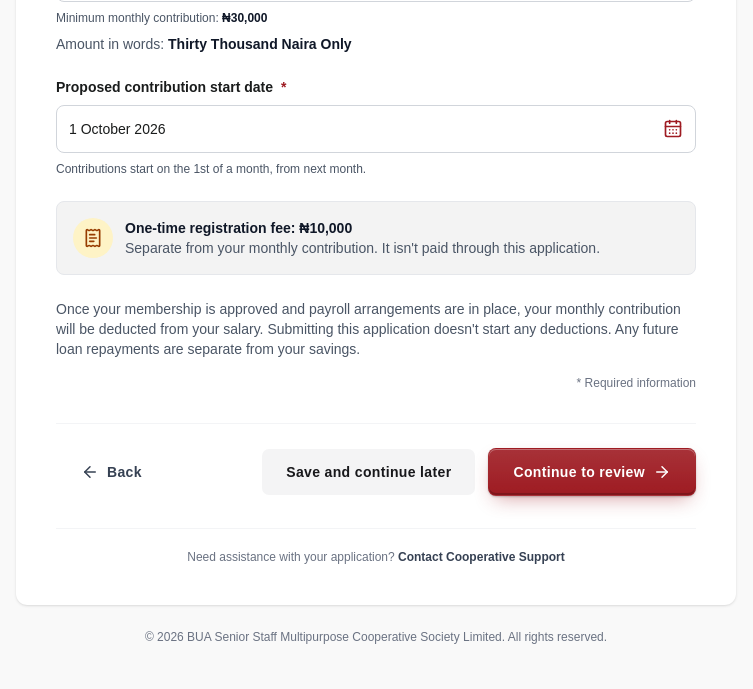
Scenario: Contributions: the start date › flags a saved start that is no longer next month or later, only on Continue
(page scrolled)
Click the button "Continue to review" at x=592, y=472, box x1=488 y1=448 x2=696 y2=496
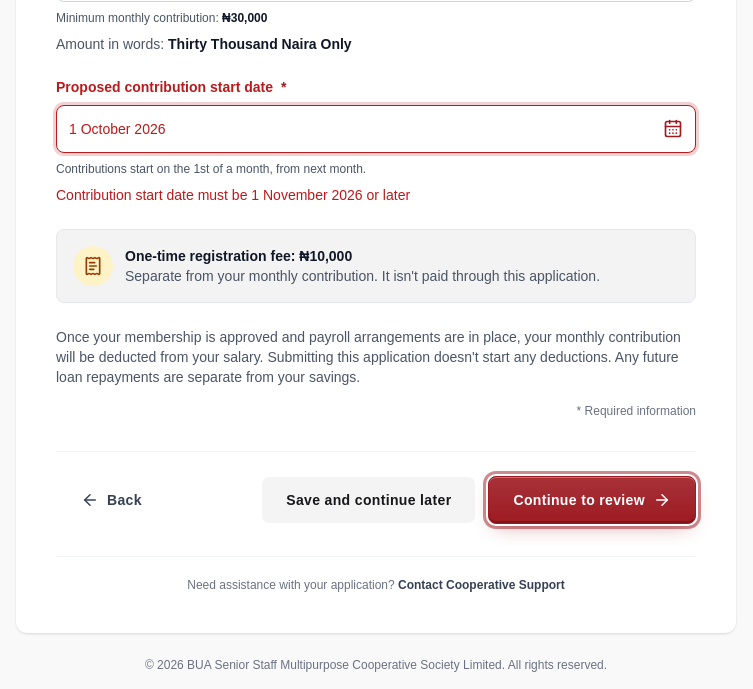
Now the text "Contribution start date must be 1 November 2026 or later" is shown, box x1=56 y1=187 x2=410 y2=203
Click the button "Save and continue later" at x=369, y=500, box x1=261 y1=476 x2=476 y2=524
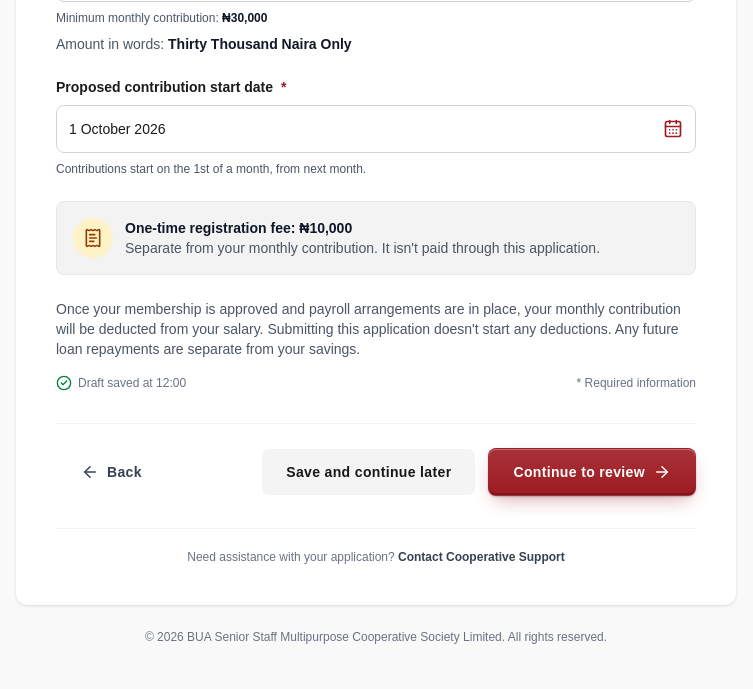
Now the text "Draft saved at 12:00" is shown, box x1=56 y1=375 x2=186 y2=391
